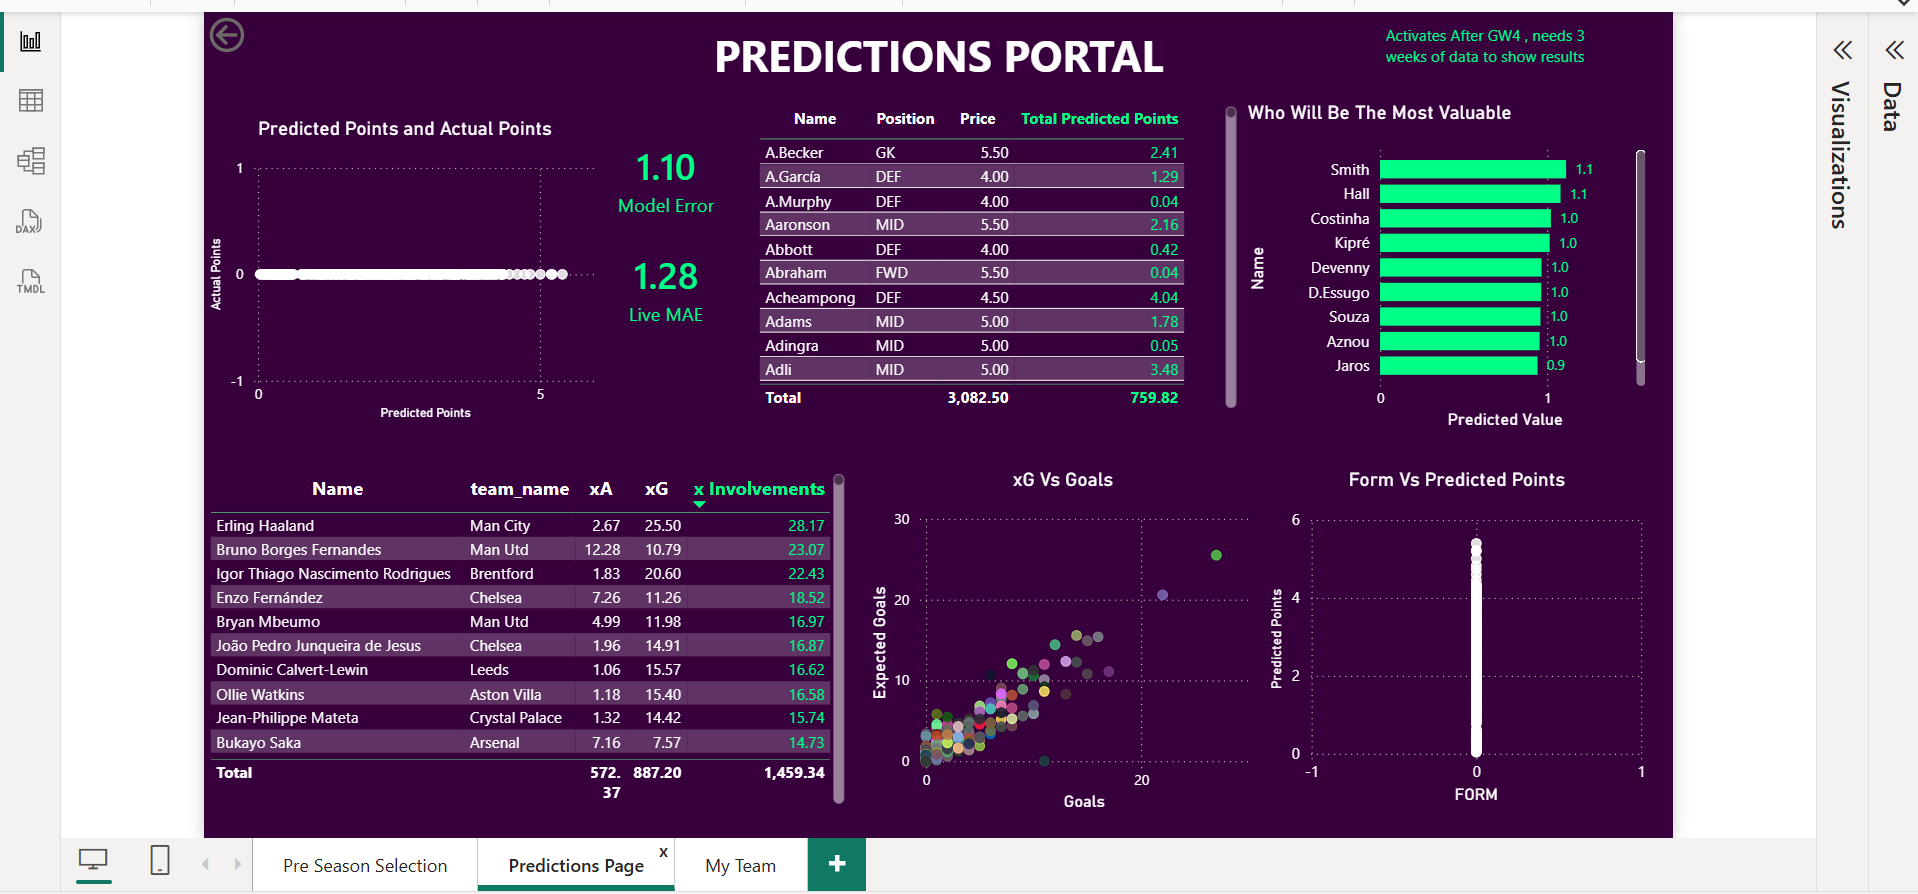

What the dashboard file says about the page in this screenshot:
{"tool":"powerbi","page":{"name":"Predictions Page","canvas":[1280,720],"ordinal":1},"visuals":[{"type":"cardVisual","fields":{"Data":["predictions.Live MAE"]},"box":[328.6,181.2,149.4,117.5],"z":0},{"type":"cardVisual","fields":{"Data":["Avg(predictions.model_mae)"]},"box":[328.6,91.6,149.4,107.6],"z":1000},{"type":"tableEx","fields":{"Values":["predictions.web_name","predictions.position","Sum(predictions.price_m)","Sum(predictions.predicted_points)"]},"box":[478,77.7,426.2,272.9],"z":2000},{"type":"scatterChart","fields":{"X":["predictions.predicted_points"],"Y":["players.event_points"]},"box":[0,91.6,350.5,268.9],"z":3000},{"type":"textbox","box":[1025.7,5.7,192.9,55.7],"z":4000},{"type":"scatterChart","title":"xG Vs Goals","fields":{"X":["players.goals_scored"],"Y":["players.expected_goals"],"Series":["players.id"]},"box":[575.9,398,347,303.2],"z":5000},{"type":"actionButton","box":[0,0,100,40],"z":6000},{"type":"scatterChart","title":"Form Vs Predicted Points","fields":{"Y":["predictions.predicted_points"],"X":["predictions.form"]},"box":[922.8,398,338.2,297.4],"z":7000},{"type":"tableEx","fields":{"Values":["players.full_name","players.team_name","Sum(players.expected_assists)","Sum(players.expected_goals)","Sum(players.expected_goal_involvements)"]},"box":[0,398,562.7,297.4],"z":8000},{"type":"clusteredBarChart","title":"Who Will Be The Most Valuable","fields":{"Y":["predictions.Predicted Value"],"Category":["predictions.web_name"]},"box":[904.2,77.7,356.5,290.8],"z":9000},{"type":"textbox","box":[384.4,6,511.9,67.7],"z":10000}]}

Visuals, with their boxes on the page's 1280x720 design canvas (x1, y1, x2, y2). These are canvas units, not pixel positions in the 1918x894 screenshot, which may show the page scaled, cropped or inside an application window:
cardVisual - predictions.Live MAE: x1=329, y1=181, x2=478, y2=299
cardVisual - Avg(predictions.model_mae): x1=329, y1=92, x2=478, y2=199
tableEx - predictions.web_name x predictions.position: x1=478, y1=78, x2=904, y2=351
scatterChart - predictions.predicted_points x players.event_points: x1=0, y1=92, x2=350, y2=360
textbox: x1=1026, y1=6, x2=1219, y2=61
"xG Vs Goals" scatterChart: x1=576, y1=398, x2=923, y2=701
actionButton: x1=0, y1=0, x2=100, y2=40
"Form Vs Predicted Points" scatterChart: x1=923, y1=398, x2=1261, y2=695
tableEx - players.full_name x players.team_name: x1=0, y1=398, x2=563, y2=695
"Who Will Be The Most Valuable" clusteredBarChart: x1=904, y1=78, x2=1261, y2=368
textbox: x1=384, y1=6, x2=896, y2=74
